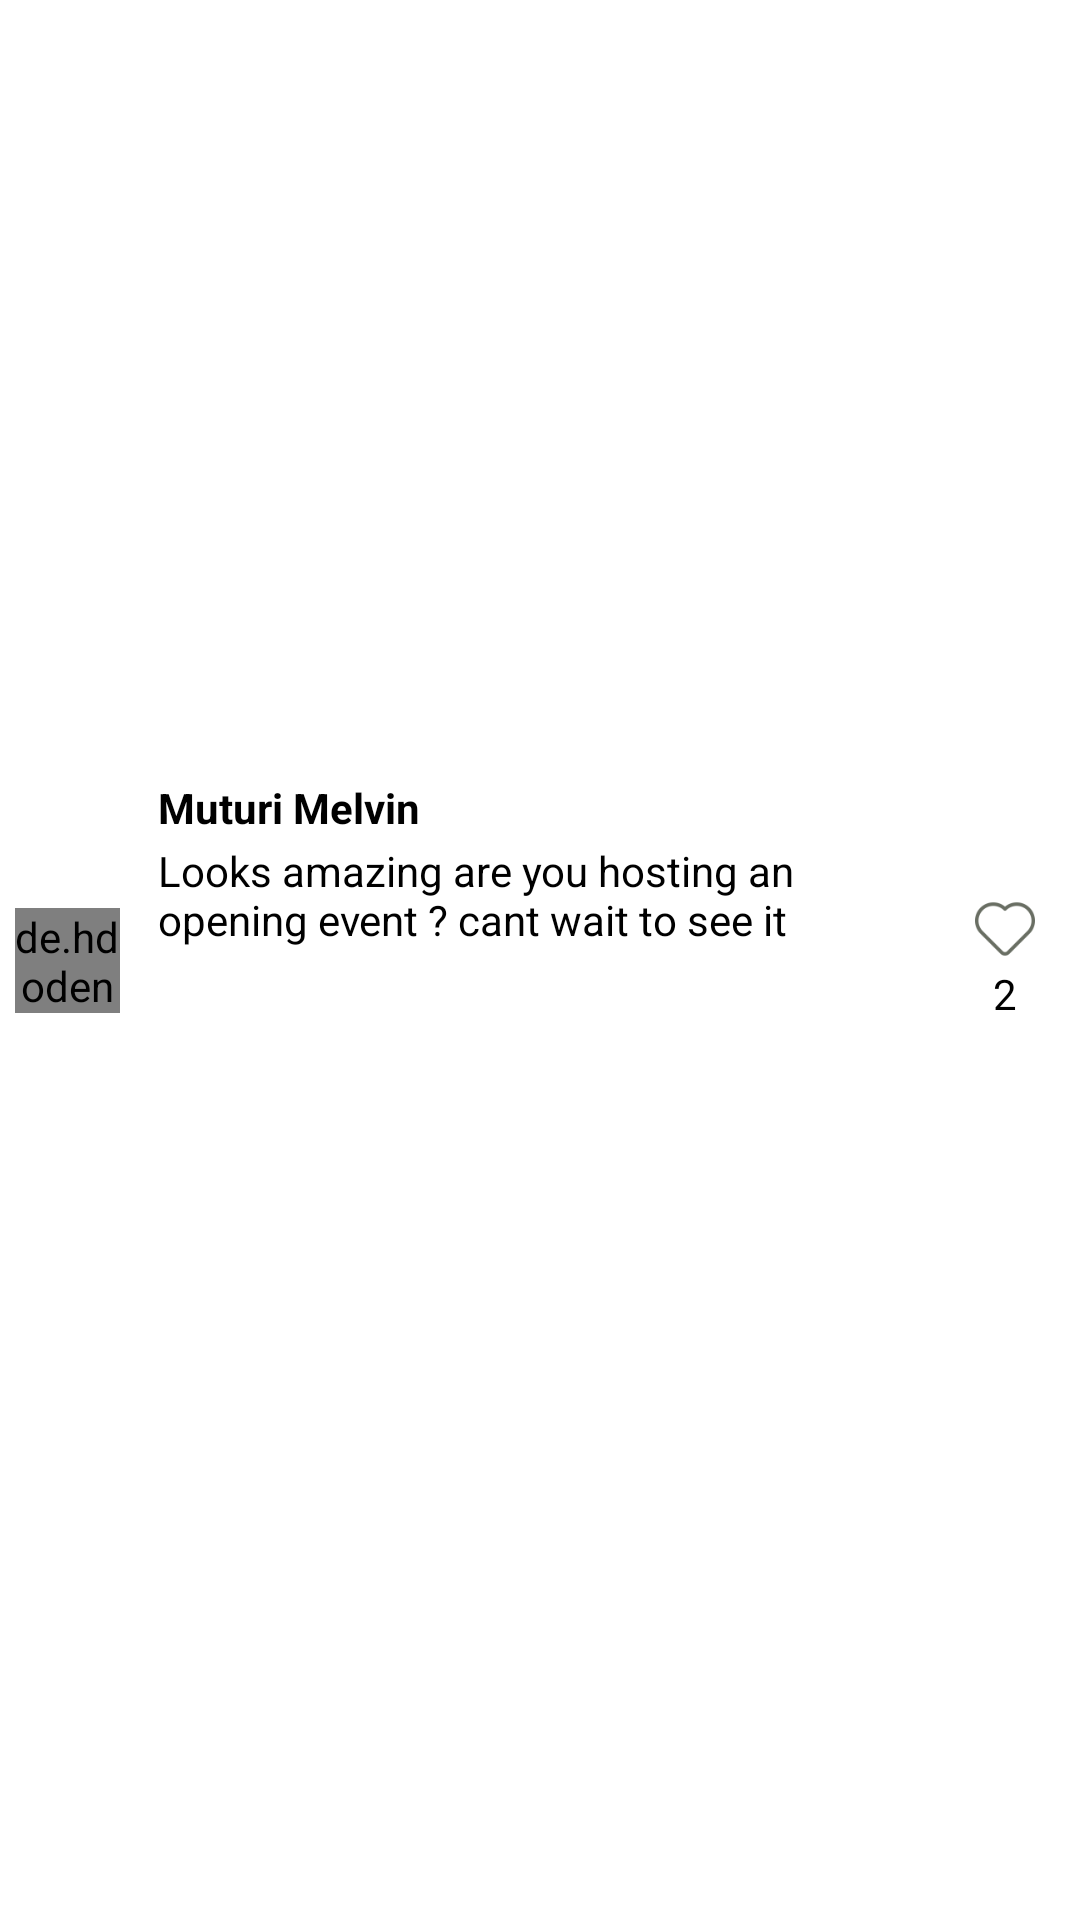

Named icons in this screenshot (1080px×1920px) and their bounding boxes, (x1, y1, x2, y2):
favourite: (975, 902, 1035, 956)
